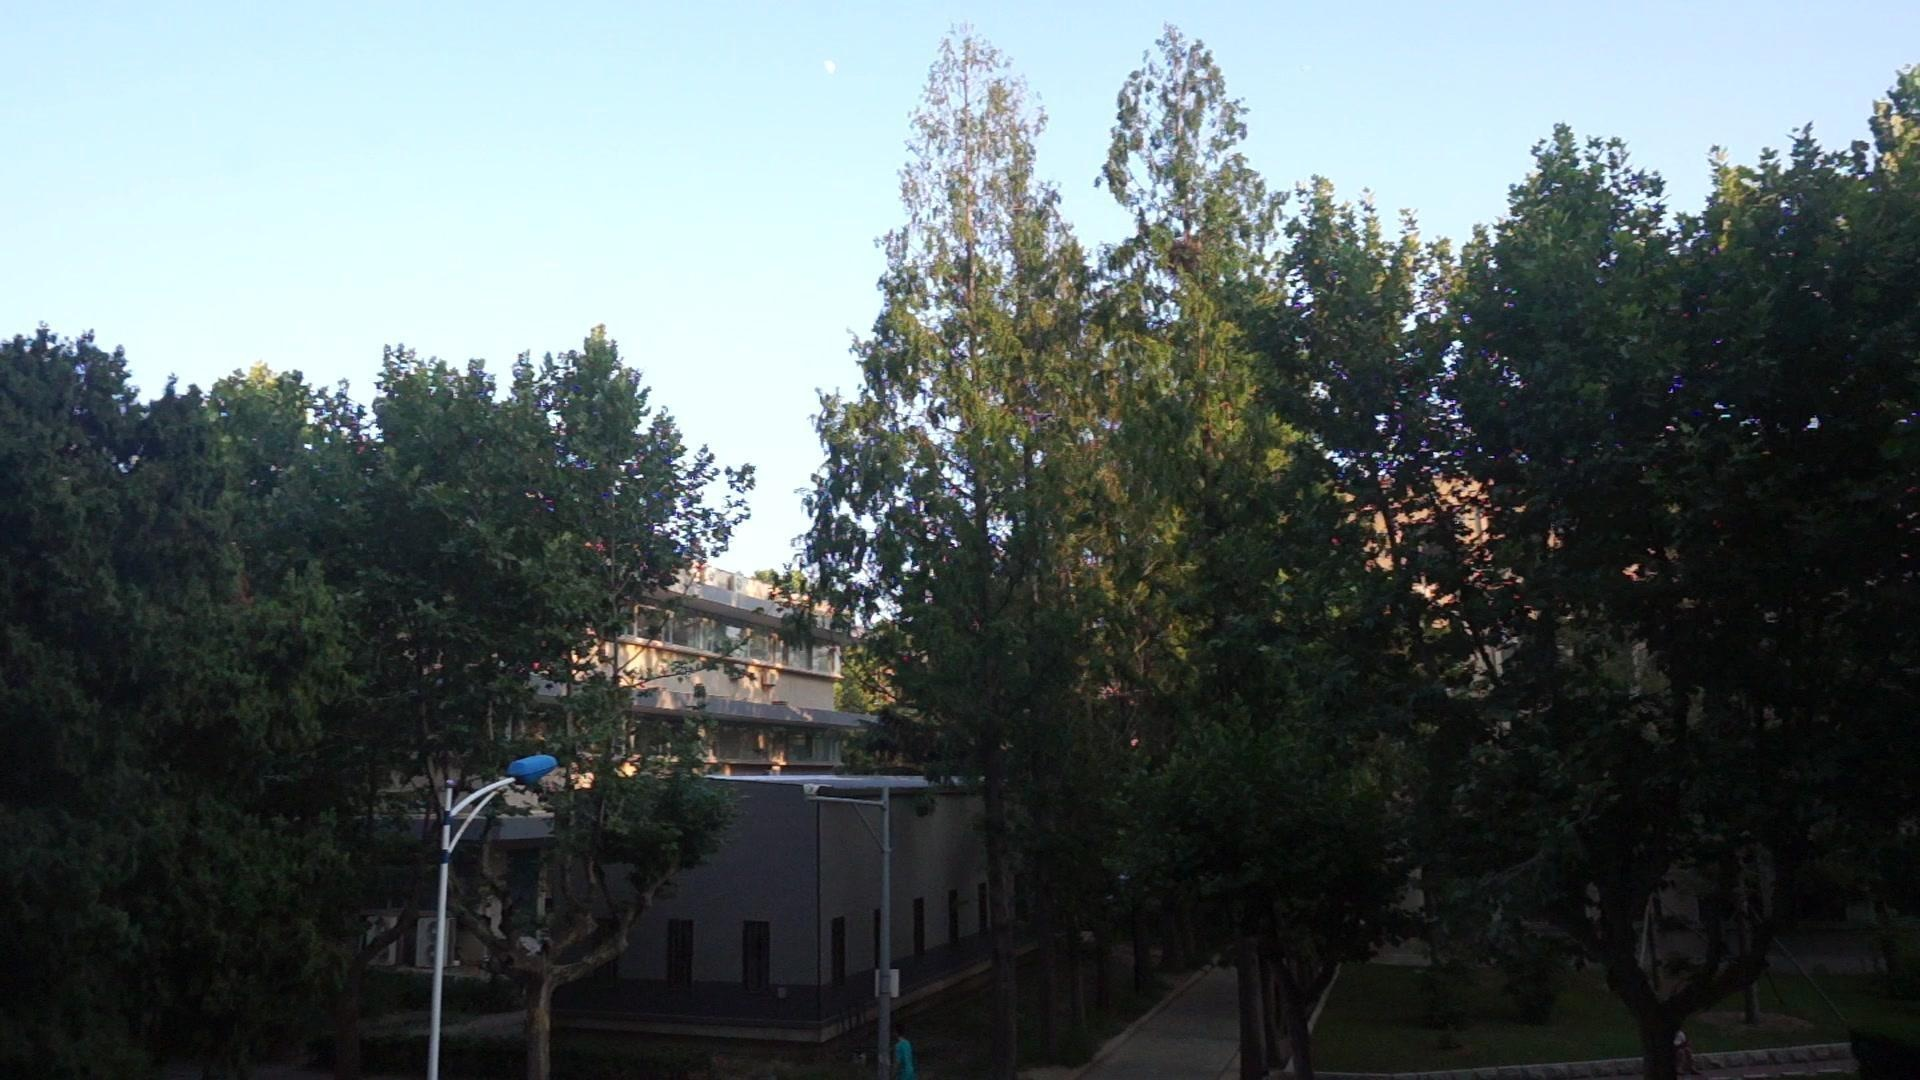UAV: (1025, 411, 1058, 425)
